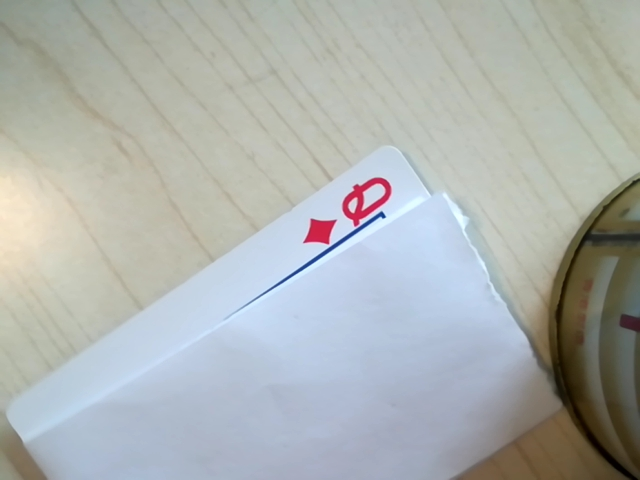fk q: (297, 171, 404, 255)
